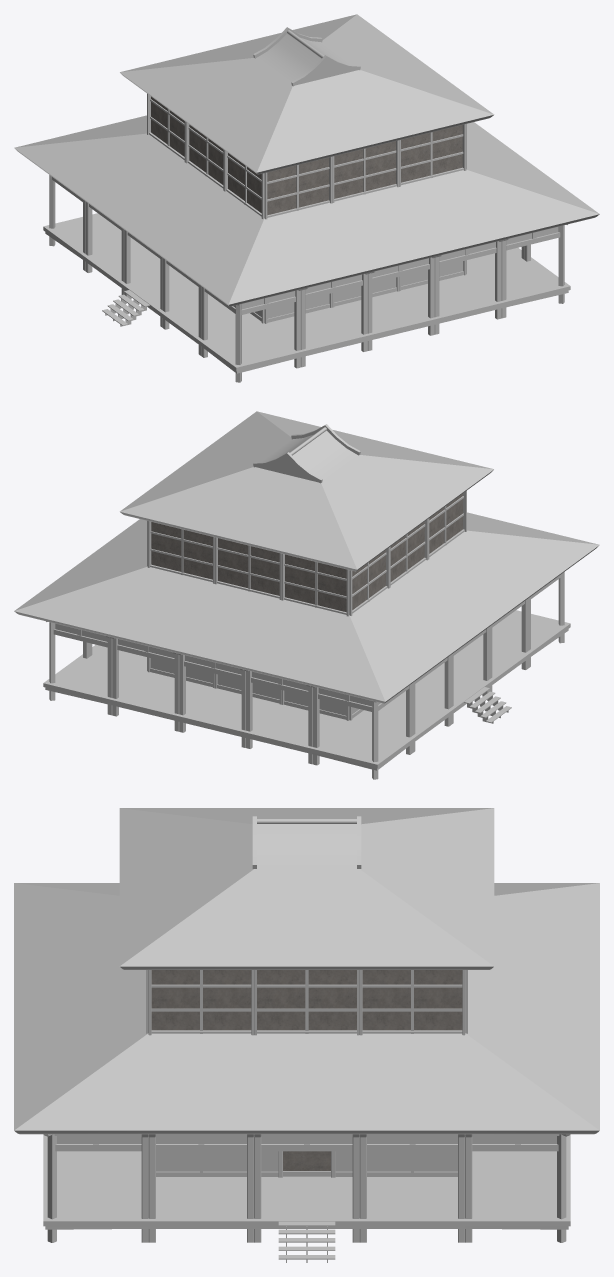
Rendered from Japanese Buildings 3.fbx.
3 renders of one model, top to bottom at view 1: azimuth 30°, elevation 25°; view 2: azimuth 150°, elevation 25°; view 3: azimuth 270°, elevation 25°, orthographic. The views are drawn at different scales.
Visible parts, largest first — view 1: Japanese_Buildings_3; view 2: Japanese_Buildings_3; view 3: Japanese_Buildings_3.
Boxes of the visible parts, box(x1,y1,x2,y2) form: Japanese_Buildings_3: box(14, 14, 599, 382); Japanese_Buildings_3: box(14, 411, 599, 779); Japanese_Buildings_3: box(14, 808, 599, 1262).
Size of the model in its own units: 1164 by 663 by 1111.
